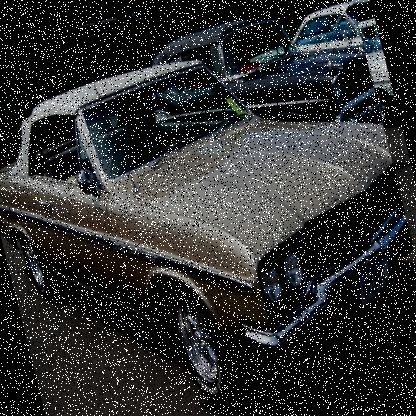Car: (0, 0, 415, 415), (138, 23, 389, 202), (230, 24, 400, 157), (340, 18, 380, 53)
